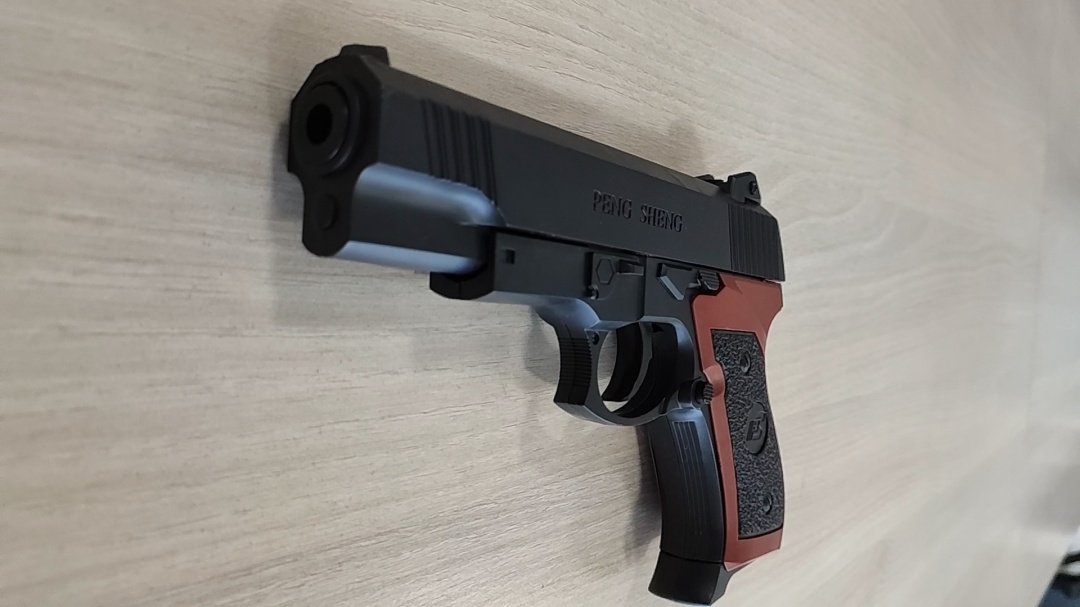gunw: (282, 41, 787, 606)
